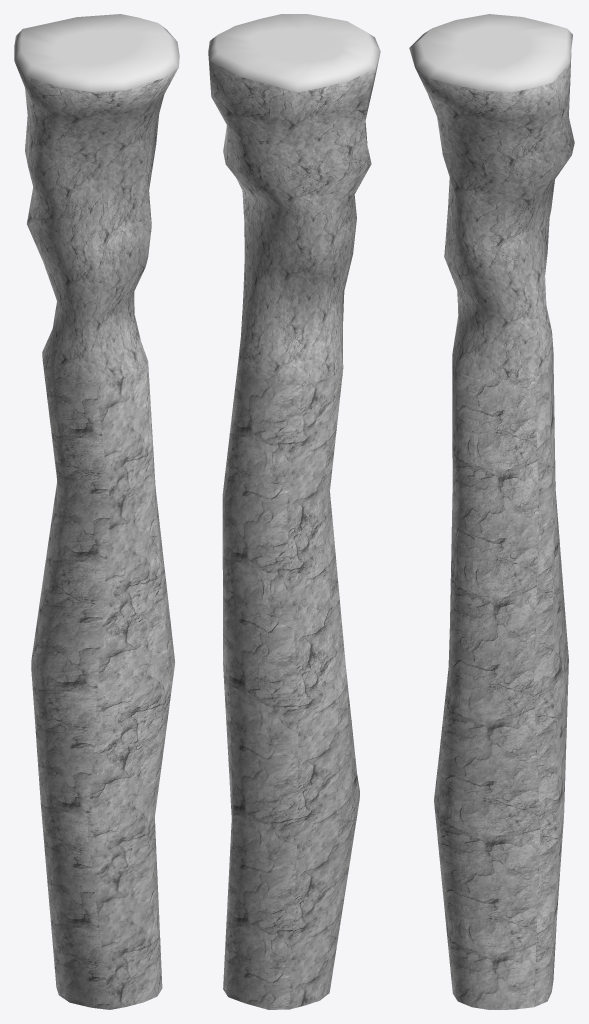
The model's file is Clif_New_01.fbx.
3 views of the same model, side by side, from view 1: azimuth 30°, elevation 25°; view 2: azimuth 150°, elevation 25°; view 3: azimuth 270°, elevation 25° (orthographic).
Parts seen in each view (by area): view 1: Clif_New_01; view 2: Clif_New_01; view 3: Clif_New_01.
Boxes of the visible parts, x1=… form: Clif_New_01: x1=14, y1=14, x2=179, y2=1009; Clif_New_01: x1=208, y1=14, x2=380, y2=1009; Clif_New_01: x1=409, y1=14, x2=574, y2=1009.
Size of the model in its own units: 12218 by 71939 by 11548.
